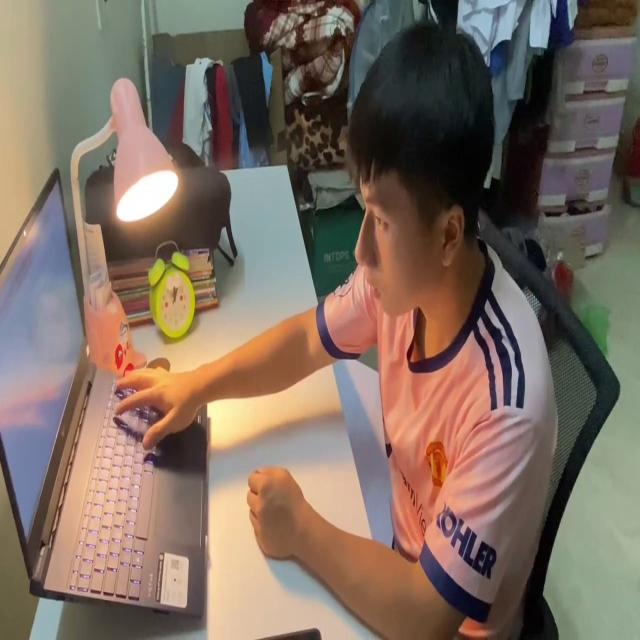book: (328, 349, 396, 561)
laptop: (1, 163, 211, 625)
student: (114, 12, 558, 640)
